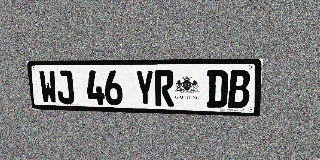4: (85, 70, 105, 105)
6: (103, 70, 123, 105)
B: (228, 70, 251, 108)
D: (207, 70, 228, 108)
J: (55, 70, 75, 104)
R: (154, 70, 174, 107)
W: (38, 70, 58, 104)
Y: (135, 70, 154, 106)
